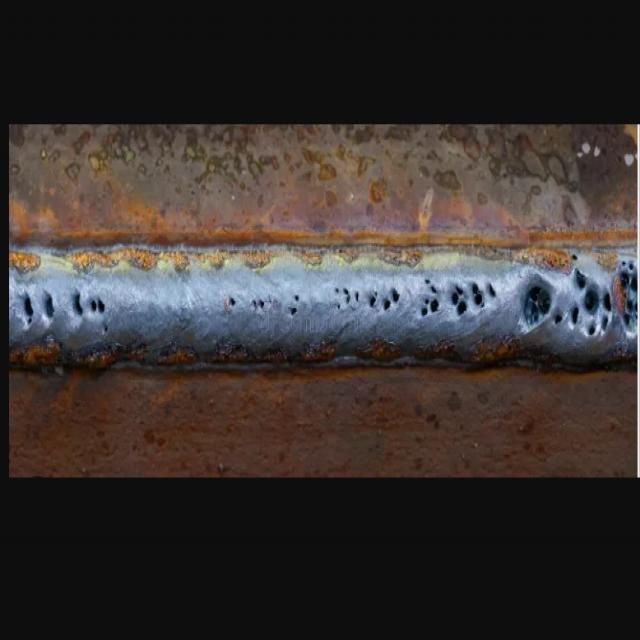Porosity: (519, 249, 616, 343), (69, 288, 112, 336), (619, 259, 637, 330), (418, 275, 441, 321), (367, 287, 405, 314), (332, 286, 361, 312), (449, 284, 468, 321), (21, 287, 34, 329), (471, 281, 486, 312), (44, 290, 56, 323), (286, 293, 302, 317), (252, 297, 267, 313), (488, 281, 498, 300), (227, 295, 238, 309)
